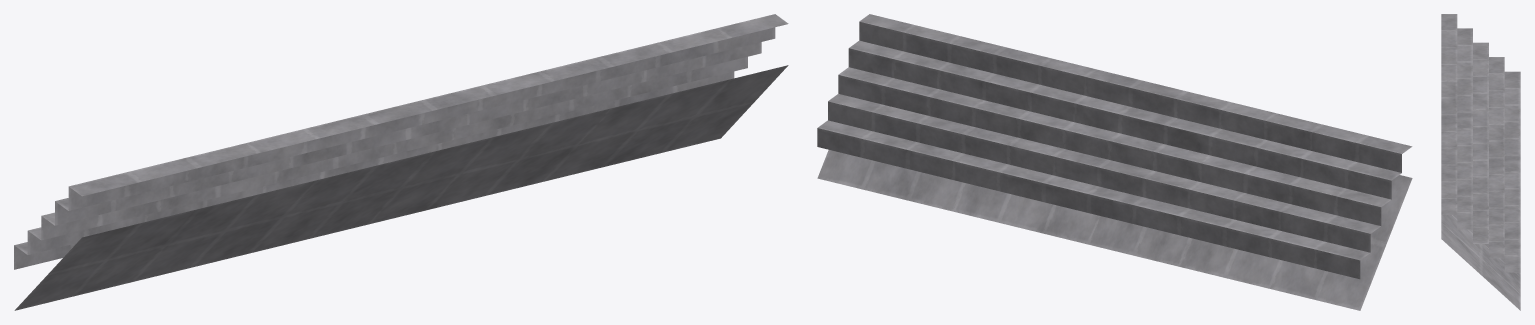
The model's file is Stair_1h_D.fbx.
3 renders of one model, left to right at view 1: azimuth 30°, elevation 25°; view 2: azimuth 150°, elevation 25°; view 3: azimuth 270°, elevation 25°, orthographic. The views are drawn at different scales.
Parts seen in each view (by area): view 1: Stair_1h_D; view 2: Stair_1h_D; view 3: Stair_1h_D.
Boxes of the visible parts, bbox=[...] form: Stair_1h_D: bbox=[14, 14, 788, 310]; Stair_1h_D: bbox=[817, 14, 1412, 310]; Stair_1h_D: bbox=[1441, 14, 1520, 310].
Size of the model in its own units: 6 by 1 by 1.33.
